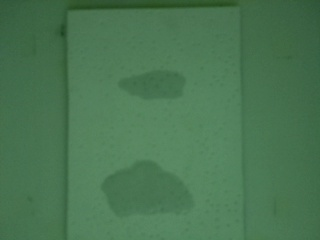Water_detected: (110, 172, 184, 214), (128, 68, 186, 96)
